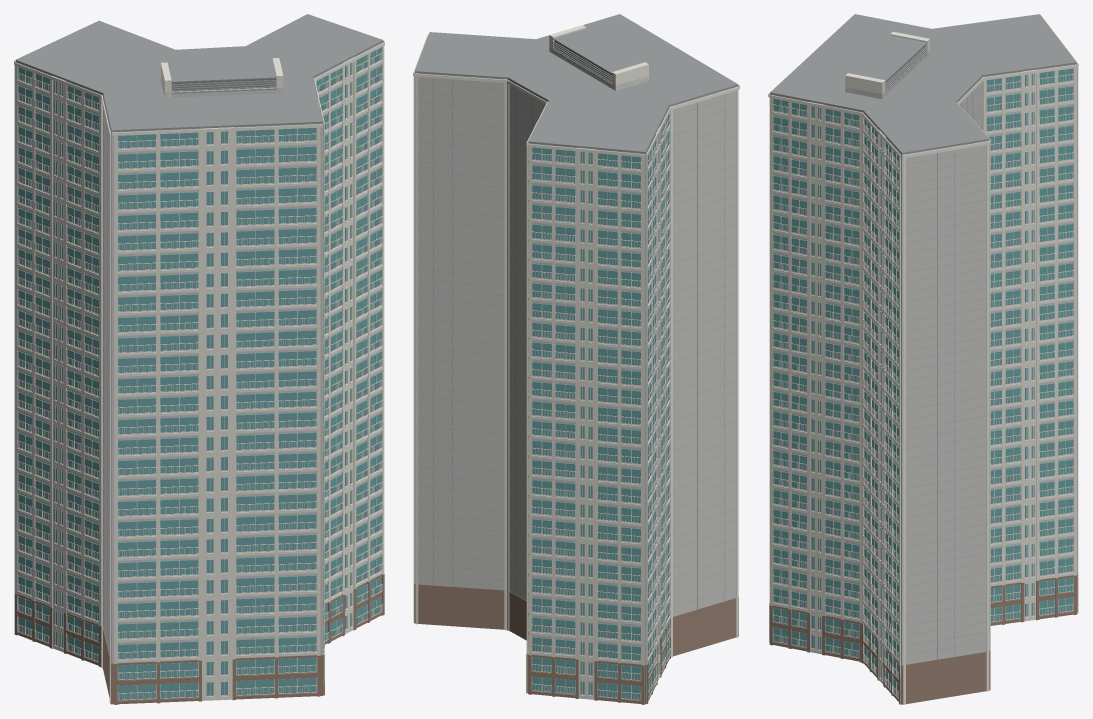
The model's file is bespoke-jamsil-els-162.glb.
The picture shows the model from 3 angles, left to right: view 1: azimuth 30°, elevation 25°; view 2: azimuth 150°, elevation 25°; view 3: azimuth 270°, elevation 25°; orthographic projection. The views are drawn at different scales.
Parts seen in each view (by area): view 1: Els162_editable_Els162_turquoise_balcony_glazing, Els162_white_exact_chunk_2, Els162_editable_Els162_light_grey_solid_wall, Els162_white_exact_chunk_3, Els162_editable_Els162_modest_grey_flat_roof_caps, Els162_white_exact_chunk_1, Els162_white_exact_chunk_6, Els162_white_exact_chunk_4, Els162_white_exact_chunk_5, Els162_editable_Els162_muted_ground_wall, Els162_editable_Els162_narrow_charcoal_service_strips; view 2: Els162_editable_Els162_light_grey_solid_wall, Els162_editable_Els162_turquoise_balcony_glazing, Els162_editable_Els162_modest_grey_flat_roof_caps, Els162_white_exact_chunk_0, Els162_white_exact_chunk_1, Els162_editable_Els162_muted_ground_wall, Els162_white_exact_chunk_2, Els162_white_exact_chunk_6, Els162_white_exact_chunk_7; view 3: Els162_editable_Els162_turquoise_balcony_glazing, Els162_editable_Els162_light_grey_solid_wall, Els162_white_exact_chunk_6, Els162_editable_Els162_modest_grey_flat_roof_caps, Els162_white_exact_chunk_7, Els162_white_exact_chunk_5, Els162_white_exact_chunk_4, Els162_editable_Els162_muted_ground_wall, Els162_white_exact_chunk_0.
Boxes of the visible parts, <box> form: Els162_editable_Els162_turquoise_balcony_glazing: <box>18,47,381,699</box>; Els162_white_exact_chunk_2: <box>14,62,233,703</box>; Els162_editable_Els162_light_grey_solid_wall: <box>16,42,383,680</box>; Els162_white_exact_chunk_3: <box>114,129,317,697</box>; Els162_editable_Els162_modest_grey_flat_roof_caps: <box>15,14,383,656</box>; Els162_white_exact_chunk_1: <box>14,60,81,655</box>; Els162_white_exact_chunk_6: <box>313,41,384,643</box>; Els162_white_exact_chunk_4: <box>111,98,324,694</box>; Els162_white_exact_chunk_5: <box>314,57,353,641</box>; Els162_editable_Els162_muted_ground_wall: <box>14,574,384,704</box>; Els162_editable_Els162_narrow_charcoal_service_strips: <box>171,78,276,90</box>; Els162_editable_Els162_light_grey_solid_wall: <box>415,47,737,680</box>; Els162_editable_Els162_turquoise_balcony_glazing: <box>532,114,669,699</box>; Els162_editable_Els162_modest_grey_flat_roof_caps: <box>414,14,738,615</box>; Els162_white_exact_chunk_0: <box>528,143,641,700</box>; Els162_white_exact_chunk_1: <box>528,126,665,704</box>; Els162_editable_Els162_muted_ground_wall: <box>414,583,738,704</box>; Els162_white_exact_chunk_2: <box>646,86,739,677</box>; Els162_white_exact_chunk_6: <box>413,33,547,630</box>; Els162_white_exact_chunk_7: <box>526,25,648,692</box>; Els162_editable_Els162_turquoise_balcony_glazing: <box>773,68,1073,697</box>; Els162_editable_Els162_light_grey_solid_wall: <box>770,50,1076,665</box>; Els162_white_exact_chunk_6: <box>862,69,1036,704</box>; Els162_editable_Els162_modest_grey_flat_roof_caps: <box>770,14,1076,664</box>; Els162_white_exact_chunk_7: <box>845,31,1077,624</box>; Els162_white_exact_chunk_5: <box>769,95,885,684</box>; Els162_white_exact_chunk_4: <box>768,16,852,654</box>; Els162_editable_Els162_muted_ground_wall: <box>769,574,1078,704</box>; Els162_white_exact_chunk_0: <box>1062,43,1078,612</box>.
Bounding box in the file's own units: 40.67 × 76.75 × 37.97.
